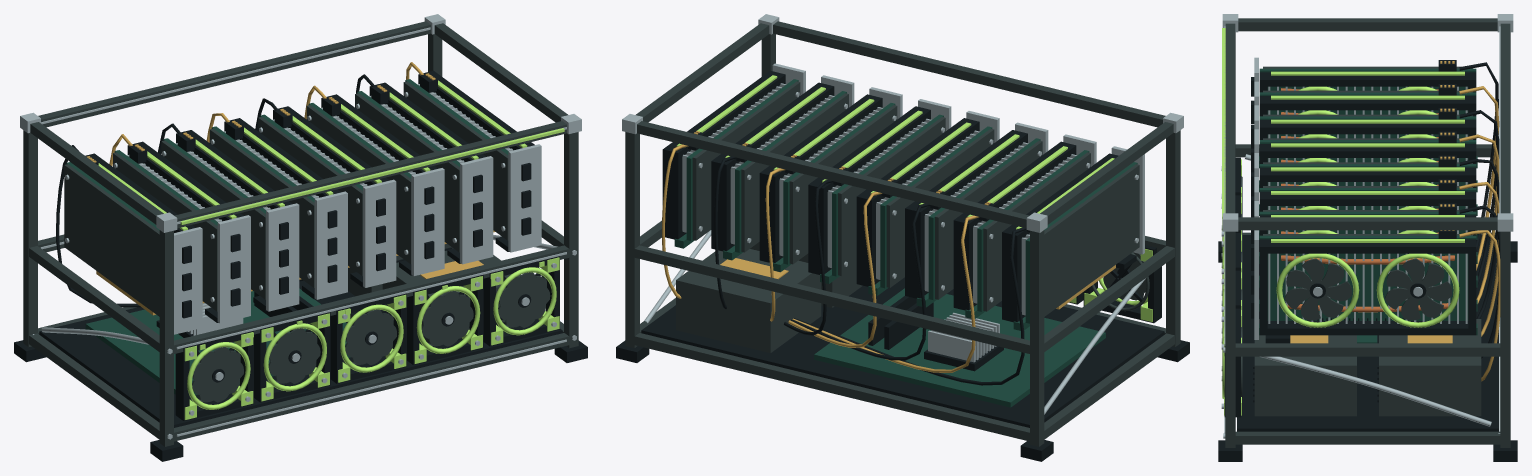
The model's file is rig-8-none-none.glb.
3 renders of one model, left to right at view 1: azimuth 30°, elevation 25°; view 2: azimuth 150°, elevation 25°; view 3: azimuth 270°, elevation 25°, orthographic.
Visible parts, largest first — view 1: Anodized graphite (×6), Rubber and ABS (×14), Brushed aluminium (×9), gpu-dual (×8), Lime accents (×5), Circuit board, rig-8-none-none, slot-cable-1; view 2: Anodized graphite, Rubber and ABS (×10), gpu-dual (×8), Brushed aluminium (×9), Circuit board, slot-cable-1, slot-cable-2, slot-cable-3, slot-cable-4, slot-cable-5, Lime accents, Contacts (+1 smaller); view 3: Anodized graphite (×3), Rubber and ABS (×10), gpu-dual (×8), Lime accents (×8), Brushed aluminium (×3), Copper heat pipes, Contacts, rig-8-none-none, slot-cable-8, slot-cable-1, slot-cable-3, slot-cable-2 (+5 smaller).
Part boxes in pixels (box(x1,y1,x2,y2)): Anodized graphite (×6): box(23, 21, 578, 446); Rubber and ABS (×14): box(14, 70, 587, 461); Brushed aluminium (×9): box(20, 14, 581, 439); gpu-dual (×8): box(64, 79, 508, 316); Lime accents (×5): box(184, 257, 559, 419); Circuit board: box(85, 288, 350, 394); rig-8-none-none: box(180, 128, 564, 224); slot-cable-1: box(56, 145, 303, 307); Anodized graphite: box(625, 21, 1180, 446); Rubber and ABS (×10): box(616, 70, 1189, 461); gpu-dual (×8): box(686, 79, 1139, 323); Brushed aluminium (×9): box(622, 14, 1183, 414); Circuit board: box(674, 233, 1105, 407); slot-cable-1: box(794, 227, 1026, 385); slot-cable-2: box(792, 215, 979, 372); slot-cable-3: box(791, 203, 930, 360); slot-cable-4: box(788, 191, 882, 347); slot-cable-5: box(784, 180, 833, 335); Lime accents: box(1084, 249, 1152, 322); Contacts: box(720, 258, 788, 279); Anodized graphite (×3): box(1225, 18, 1510, 447); Rubber and ABS (×10): box(1218, 60, 1517, 461); gpu-dual (×8): box(1259, 66, 1476, 320); Lime accents (×8): box(1271, 71, 1464, 327); Brushed aluminium (×3): box(1222, 14, 1513, 438); Copper heat pipes: box(1281, 255, 1454, 312); Contacts: box(1290, 335, 1452, 343); rig-8-none-none: box(1222, 28, 1225, 218); slot-cable-8: box(1459, 230, 1500, 381); slot-cable-1: box(1459, 62, 1498, 251); slot-cable-3: box(1459, 110, 1499, 288); slot-cable-2: box(1459, 86, 1499, 270).
Size of the model in its own units: 6.06 by 3.24 by 3.66.
